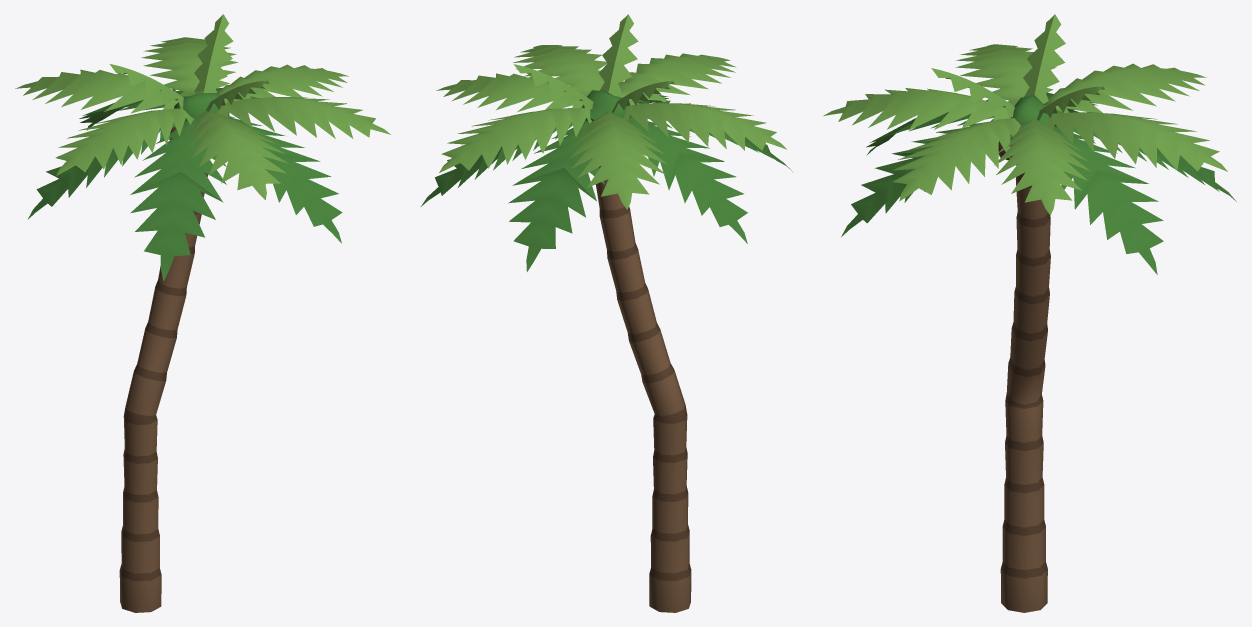
The model's file is palm_b.glb.
The picture shows the model from 3 angles, left to right: view 1: azimuth 30°, elevation 25°; view 2: azimuth 150°, elevation 25°; view 3: azimuth 270°, elevation 25°; orthographic projection. The views are drawn at different scales.
Visible parts, largest first — view 1: body; view 2: body; view 3: body.
Part boxes in pixels (bbox=[...]): body: bbox=[15, 14, 390, 612]; body: bbox=[421, 14, 793, 612]; body: bbox=[823, 14, 1236, 612].
Bounding box in the file's own units: 4.14 × 6.57 × 4.26.
